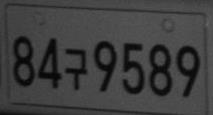4: (37, 37, 62, 89)
5: (121, 42, 145, 95)
8: (148, 42, 173, 97), (12, 34, 36, 87)
9: (175, 44, 200, 97), (93, 39, 117, 92)
구: (63, 48, 88, 91)
